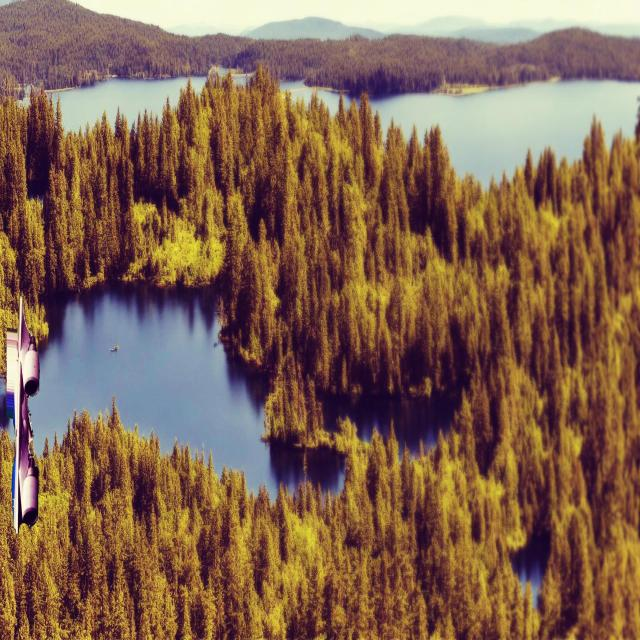airplane: (4, 293, 40, 534)
